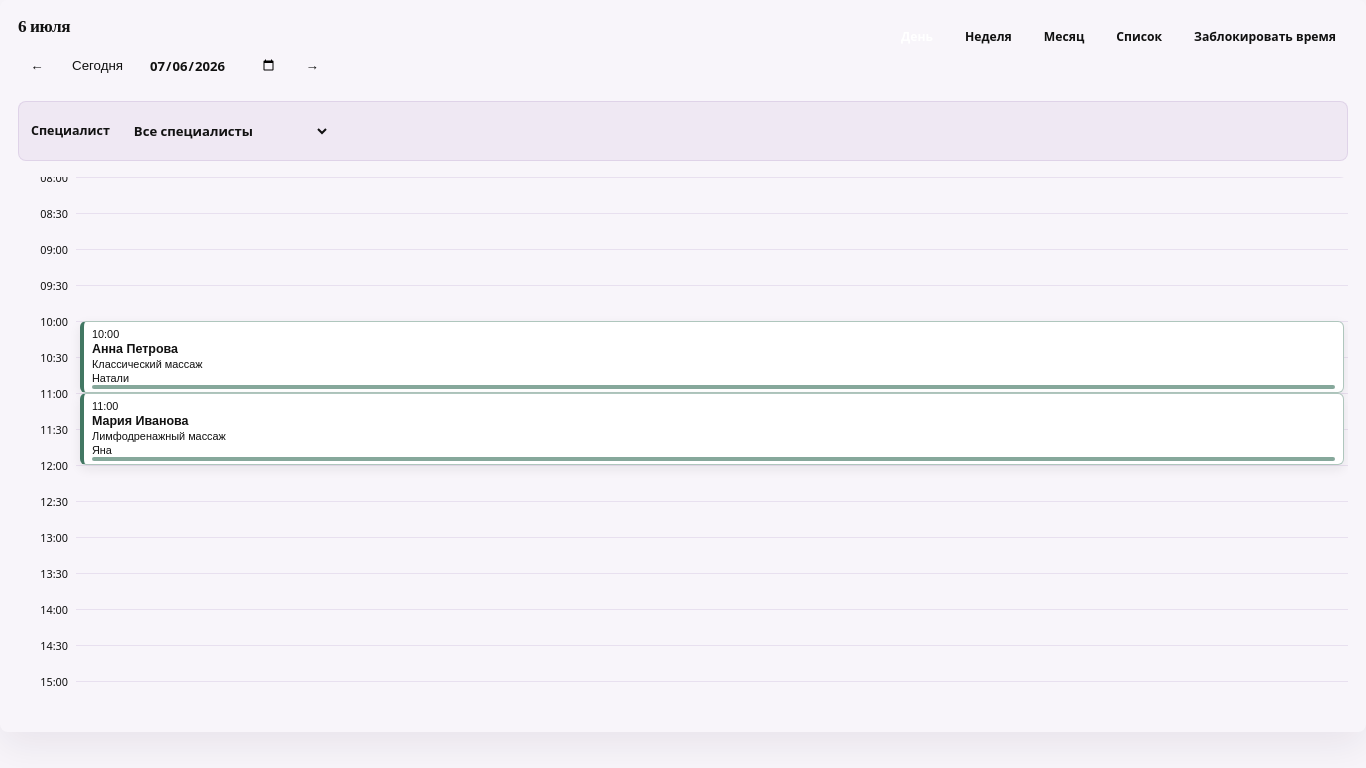
Test case: CalendarWorkspace › lets an owner filter the calendar by specialist
This screenshot has width=1366, height=768.
(page scrolled)
Expected: the text "Анна Петрова" is shown, left=92, top=342, right=178, bottom=356
Expected: the text "Мария Иванова" is shown, left=92, top=414, right=188, bottom=428
Select "Яна" in the dropdown named "Показать календарь специалиста": (225, 131) left=120, top=112, right=330, bottom=150
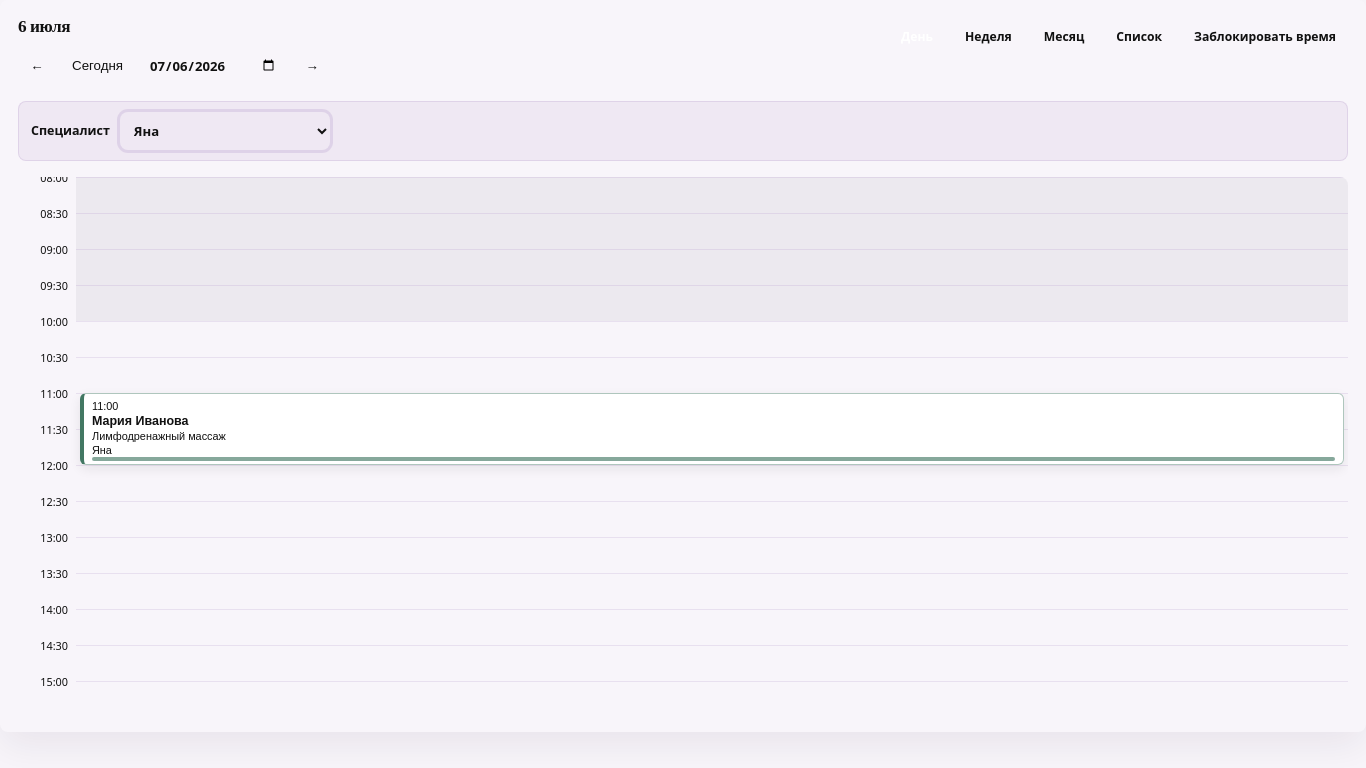
Expected: the text "Мария Иванова" is shown, left=92, top=414, right=188, bottom=428
Expected: the button "Анна Петрова" is gone
